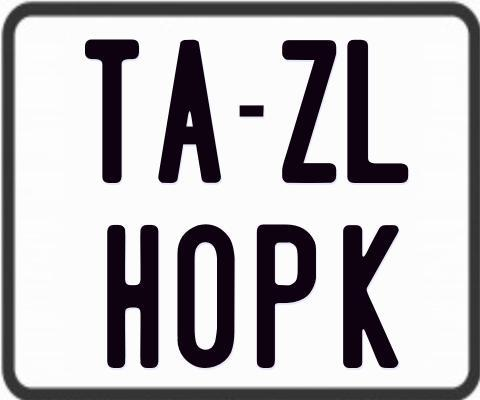0: (176, 224, 235, 374)
A: (156, 40, 221, 183)
H: (105, 225, 160, 371)
K: (342, 225, 399, 371)
L: (347, 37, 409, 184)
P: (256, 222, 318, 366)
T: (85, 38, 139, 187)
Z: (280, 38, 334, 187)
